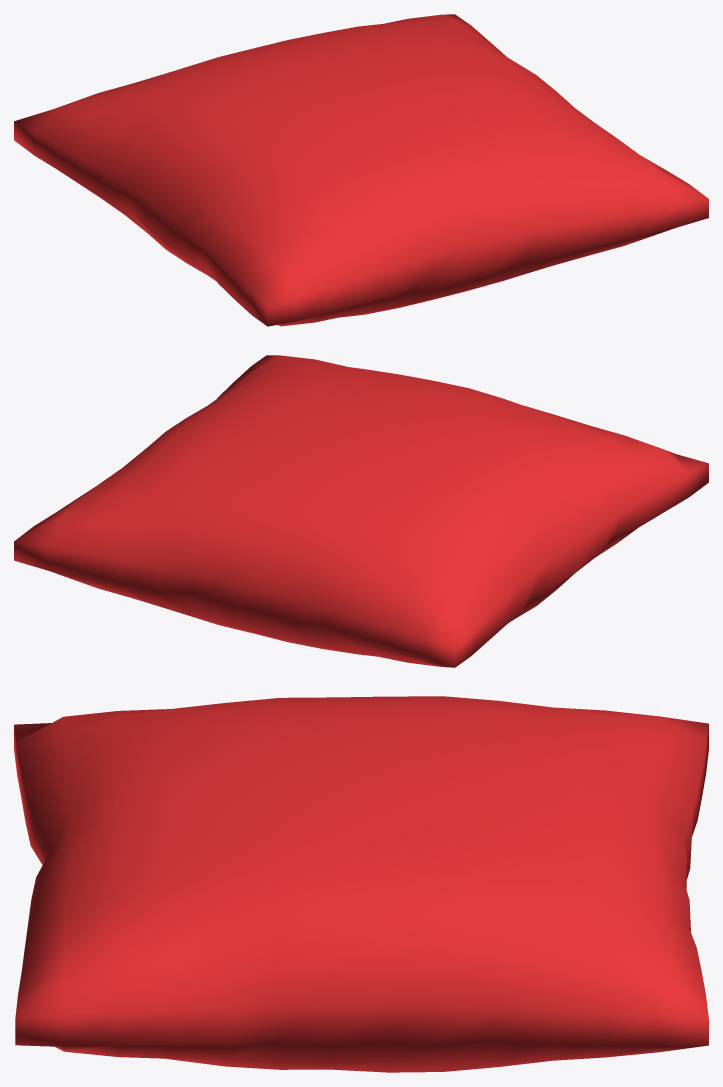
Rendered from Kissen.fbx.
3 views of the same model, one above another, from view 1: azimuth 30°, elevation 25°; view 2: azimuth 150°, elevation 25°; view 3: azimuth 270°, elevation 25° (orthographic). The views are drawn at different scales.
Visible parts, largest first — view 1: Cube; view 2: Cube; view 3: Cube.
Part boxes in pixels (x1,y1,x2,y2): Cube: (14,14,708,326); Cube: (14,355,708,667); Cube: (14,696,708,1072).
Size of the model in its own units: 277 by 95.94 by 275.
